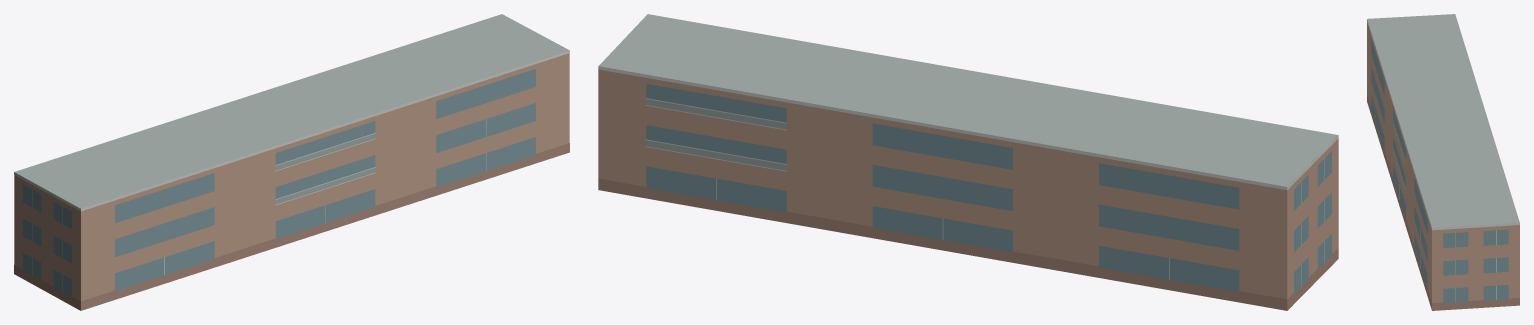
File: survey-upis-32642831.glb
3 views of the same model, side by side, from view 1: azimuth 30°, elevation 25°; view 2: azimuth 150°, elevation 25°; view 3: azimuth 270°, elevation 25° (orthographic). The views are drawn at different scales.
Parts seen in each view (by area): view 1: survey-upis-32642831.tmp; view 2: survey-upis-32642831.tmp; view 3: survey-upis-32642831.tmp.
Part boxes in pixels (bbox=[...]): survey-upis-32642831.tmp: bbox=[14, 14, 569, 310]; survey-upis-32642831.tmp: bbox=[598, 14, 1338, 310]; survey-upis-32642831.tmp: bbox=[1367, 14, 1519, 310].
Size of the model in its own units: 50.77 by 9.15 by 15.32.
